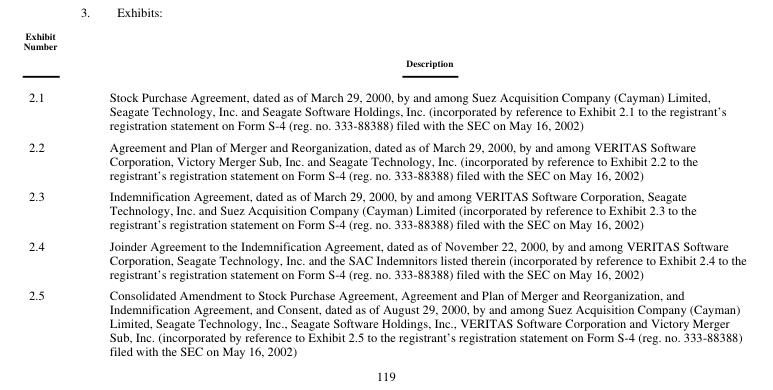table: (22, 29, 745, 358)
table column: (82, 29, 745, 358), (22, 29, 82, 358)
table column header: (22, 29, 745, 78)
table row: (22, 283, 745, 358), (22, 78, 745, 135), (22, 184, 745, 234), (22, 29, 745, 78), (22, 135, 745, 184), (22, 234, 745, 283)
